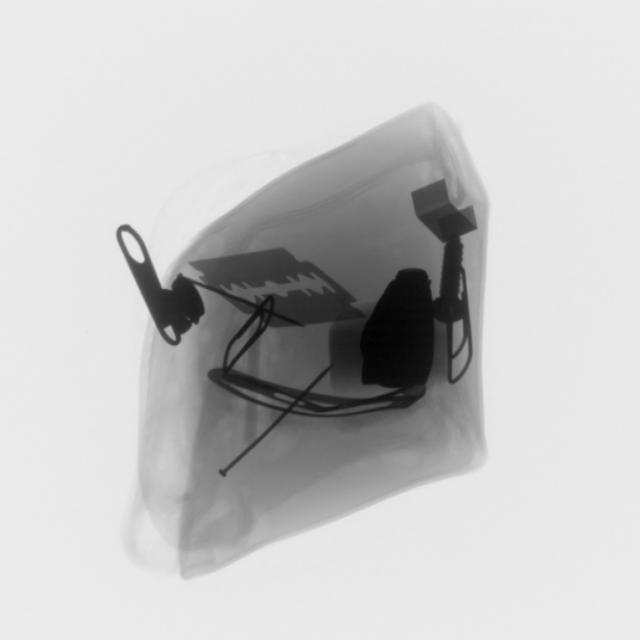BLADE: (182, 257, 364, 332)
